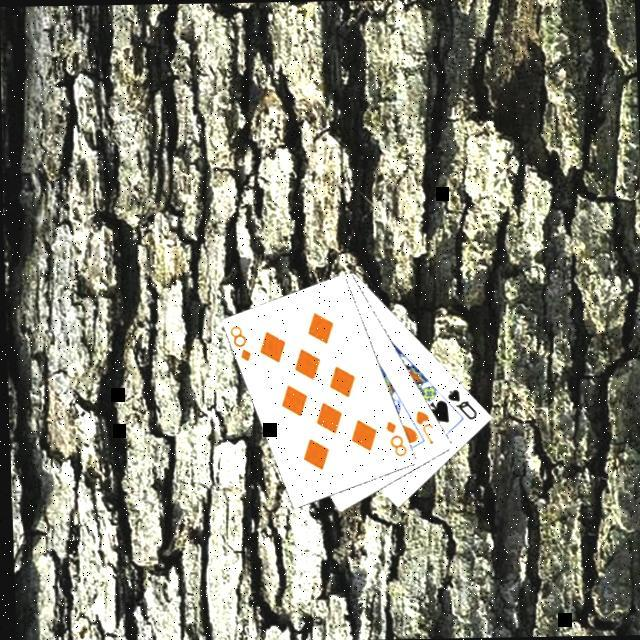8D: (226, 322, 255, 366), (381, 418, 409, 460)
JH: (412, 408, 436, 448)
QS: (444, 386, 479, 423)
